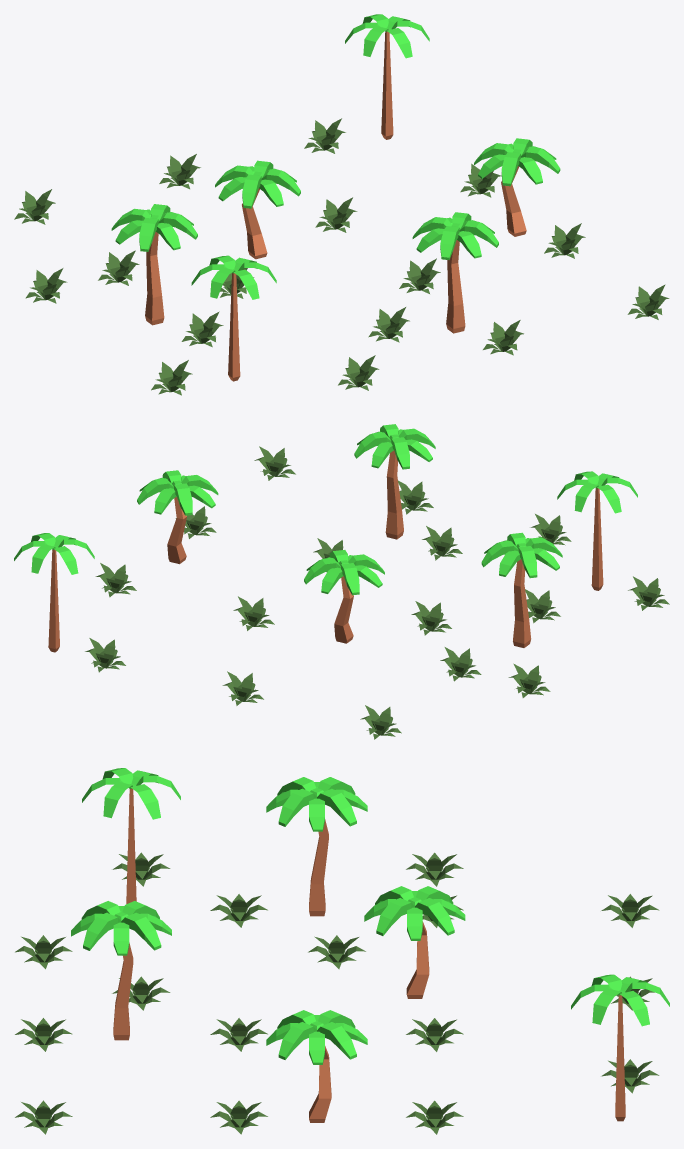
Rendered from desert_bosquet.glb.
The picture shows the model from 3 angles, top to bottom: view 1: azimuth 30°, elevation 25°; view 2: azimuth 150°, elevation 25°; view 3: azimuth 270°, elevation 25°; orthographic projection. The views are drawn at different scales.
Visible parts, largest first — view 1: mergedBlocks(Clone); view 2: mergedBlocks(Clone); view 3: mergedBlocks(Clone).
Part boxes in pixels (bbox=[...]): mergedBlocks(Clone): bbox=[14, 14, 669, 395]; mergedBlocks(Clone): bbox=[14, 424, 669, 739]; mergedBlocks(Clone): bbox=[15, 768, 669, 1134].
Size of the model in its own units: 6.62 by 1.51 by 6.71.
Materials: 1 (1 with a texture image).
